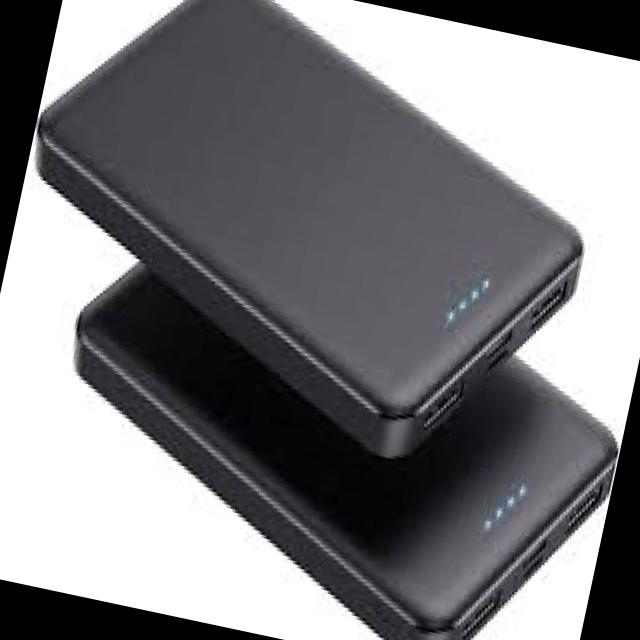power_bank: (0, 0, 631, 493), (15, 247, 637, 640)
